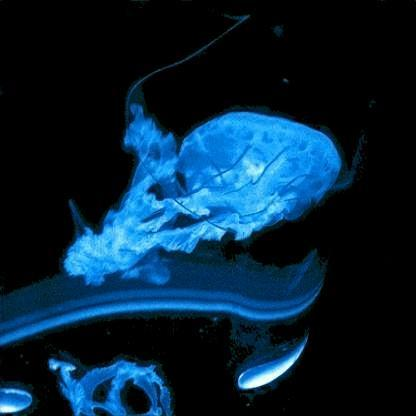Mosaic: (61, 110, 341, 280)
